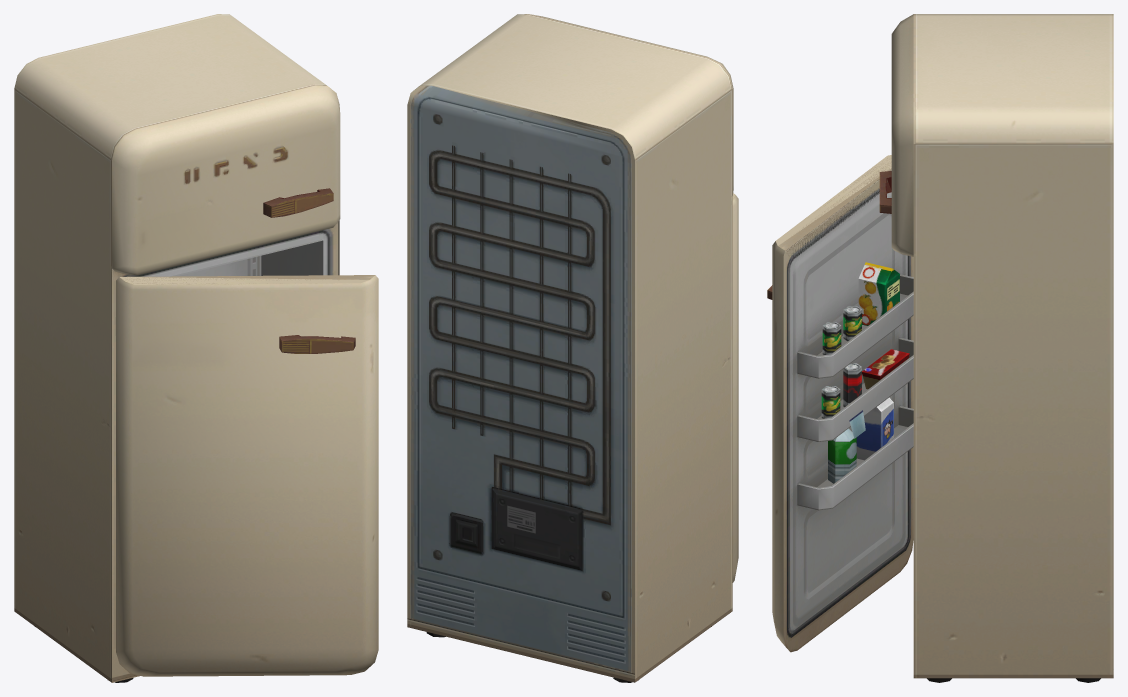
The model's file is nevera.fbx.
3 views of the same model, side by side, from view 1: azimuth 30°, elevation 25°; view 2: azimuth 150°, elevation 25°; view 3: azimuth 270°, elevation 25° (orthographic). The views are drawn at different scales.
Parts seen in each view (by area): view 1: puerta; view 2: puerta; view 3: puerta.
Boxes of the visible parts, x1,y1,x2,y2 form: puerta: (14, 14, 378, 682); puerta: (407, 14, 738, 682); puerta: (767, 14, 1113, 682).
Size of the model in its own units: 85.04 by 198 by 110.
4 materials, 4 textured.
